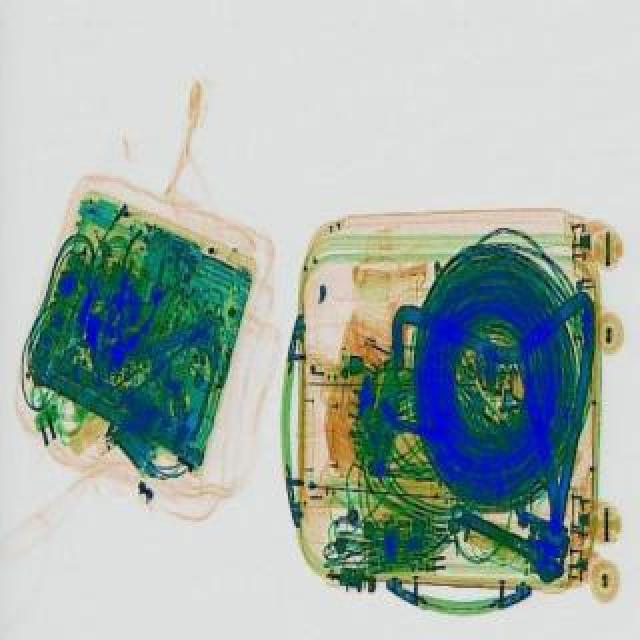scissors: (436, 488, 576, 584)
wrench: (88, 258, 168, 384)
